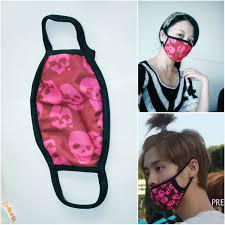OK: (166, 30, 199, 60)
WRONG: (144, 160, 197, 209)
